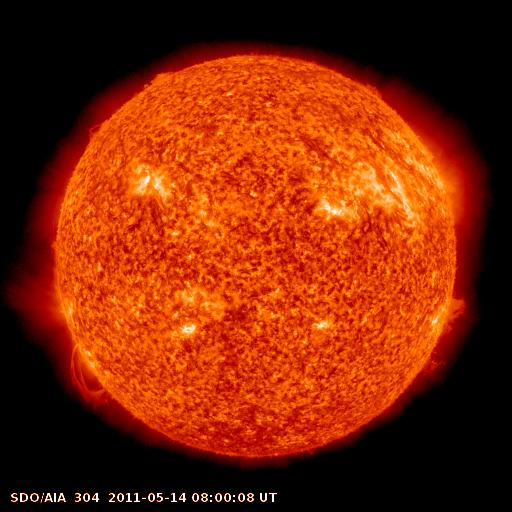prominence: (411, 289, 475, 387), (59, 339, 121, 417), (136, 63, 179, 97), (359, 71, 389, 106), (81, 115, 113, 143)
